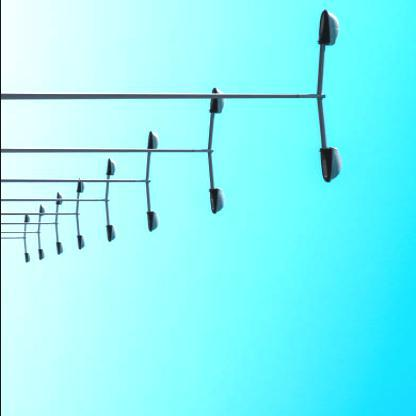off: (289, 6, 358, 226), (177, 75, 247, 228)
